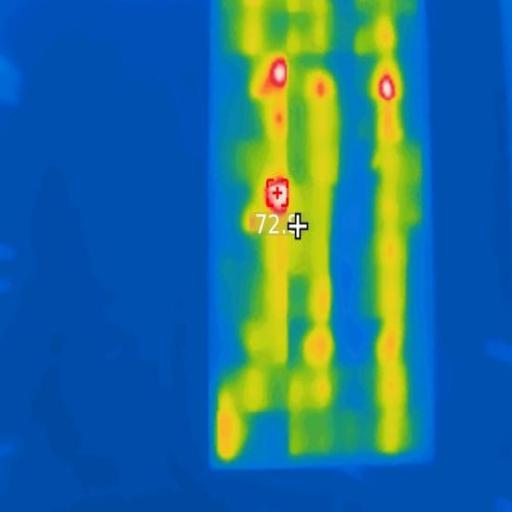hotspot: (268, 178, 289, 212), (378, 76, 396, 103), (268, 60, 286, 86), (315, 80, 327, 97)
